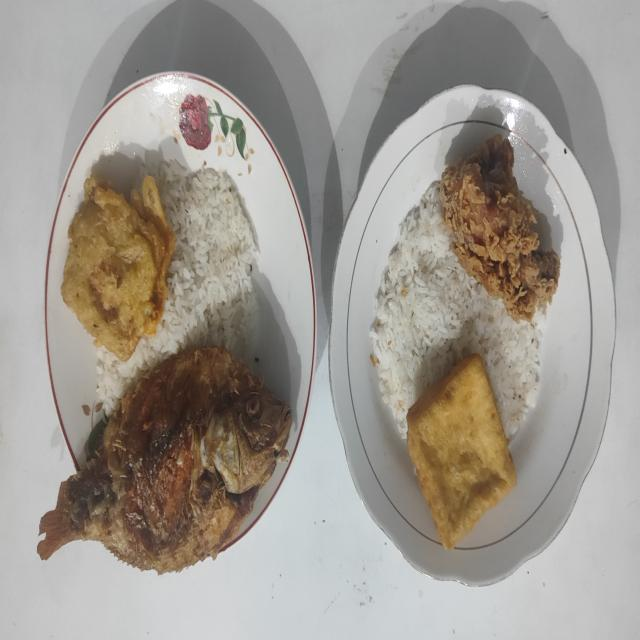ikan_mujair: (38, 348, 290, 572)
nasi_putih: (370, 180, 546, 438), (96, 160, 262, 414)
tahu_goreng: (407, 355, 516, 549)
